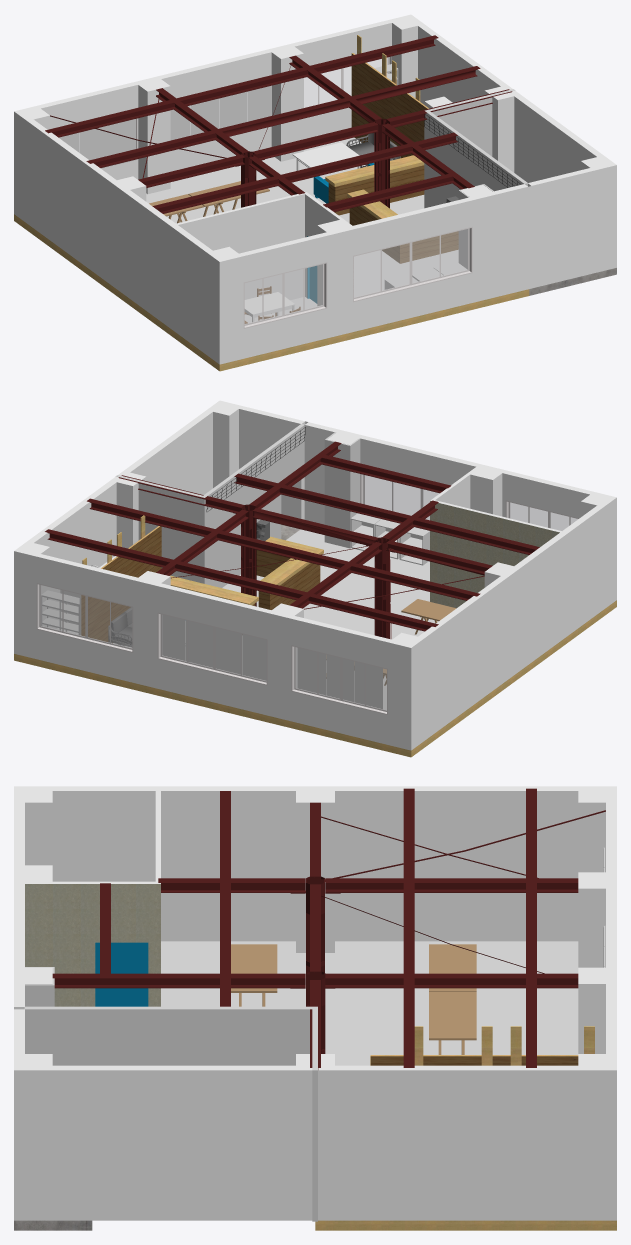
Rendered from 13LABO_2.fbx.
3 views of the same model, one above another, from view 1: azimuth 30°, elevation 25°; view 2: azimuth 150°, elevation 25°; view 3: azimuth 270°, elevation 25° (orthographic). The views are drawn at different scales.
Parts seen in each view (by area): view 1: wall, pillar, steelFrame, windowGlass, floor, wallOfEntrance, geometry-lumionModel.014, counterAndWall, blind, windowFrame, sofablueAndDoorOfSmallroom, floorOfEntrance (+2 smaller); view 2: wall, steelFrame, pillar, windowGlass, wallOfEntrance, blind, geometry-lumionModel.014, floor, wallOfSmallroo,, windowFrame, counterAndWall, Cube.001 (+6 smaller); view 3: wall, pillar, steelFrame, floor, wallOfEntrance, wallOfSmallroo,, geometry-lumionModel.014, sofablueAndDoorOfSmallroom, topBoard1.002, topBoard1, topBoard1.001, counterAndWall (+2 smaller).
Part boxes in pixels (x1=…): wall: x1=27, y1=20, x2=603, y2=358; pillar: x1=14, y1=14, x2=616, y2=364; steelFrame: x1=45, y1=35, x2=512, y2=213; windowGlass: x1=79, y1=57, x2=468, y2=324; floor: x1=146, y1=137, x2=458, y2=322; wallOfEntrance: x1=424, y1=89, x2=527, y2=208; geometry-lumionModel.014: x1=14, y1=35, x2=529, y2=371; counterAndWall: x1=328, y1=53, x2=458, y2=263; blind: x1=59, y1=85, x2=271, y2=168; windowFrame: x1=136, y1=56, x2=472, y2=328; sofablueAndDoorOfSmallroom: x1=307, y1=163, x2=374, y2=303; floorOfEntrance: x1=529, y1=268, x2=616, y2=295; wall: x1=27, y1=406, x2=603, y2=744; steelFrame: x1=45, y1=441, x2=539, y2=638; pillar: x1=14, y1=400, x2=616, y2=750; windowGlass: x1=40, y1=475, x2=577, y2=710; wallOfEntrance: x1=116, y1=424, x2=304, y2=587; blind: x1=162, y1=615, x2=382, y2=708; geometry-lumionModel.014: x1=14, y1=515, x2=616, y2=757; floor: x1=57, y1=529, x2=438, y2=709; wallOfSmallroo,: x1=430, y1=501, x2=559, y2=608; windowFrame: x1=36, y1=474, x2=578, y2=714; counterAndWall: x1=81, y1=526, x2=320, y2=643; Cube.001: x1=324, y1=432, x2=360, y2=548; wall: x1=14, y1=786, x2=616, y2=1220; pillar: x1=14, y1=786, x2=616, y2=1220; steelFrame: x1=52, y1=788, x2=605, y2=1069; floor: x1=161, y1=941, x2=578, y2=1065; wallOfEntrance: x1=24, y1=1006, x2=317, y2=1221; wallOfSmallroo,: x1=25, y1=884, x2=160, y2=1006; geometry-lumionModel.014: x1=315, y1=1026, x2=616, y2=1230; sofablueAndDoorOfSmallroom: x1=95, y1=942, x2=148, y2=1006; topBoard1.002: x1=429, y1=991, x2=476, y2=1040; topBoard1: x1=231, y1=944, x2=277, y2=992; topBoard1.001: x1=429, y1=944, x2=476, y2=991; counterAndWall: x1=370, y1=1056, x2=578, y2=1065.
Size of the model in its own units: 1216 by 321 by 1090.
